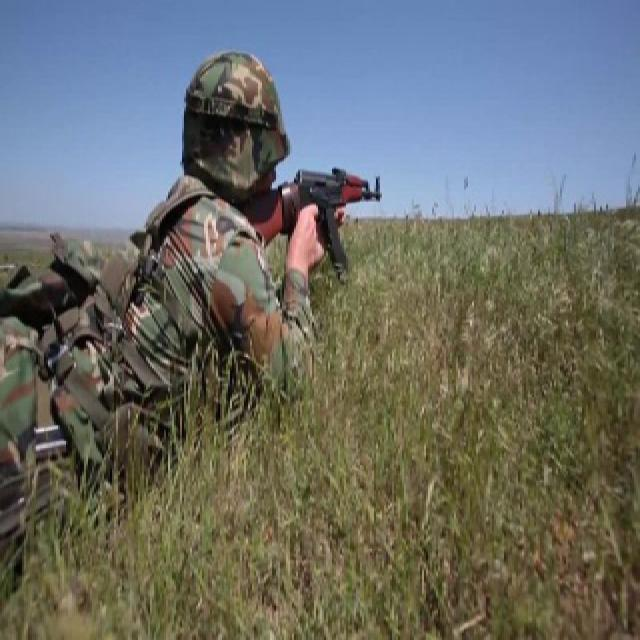long weapon: (228, 159, 394, 282)
